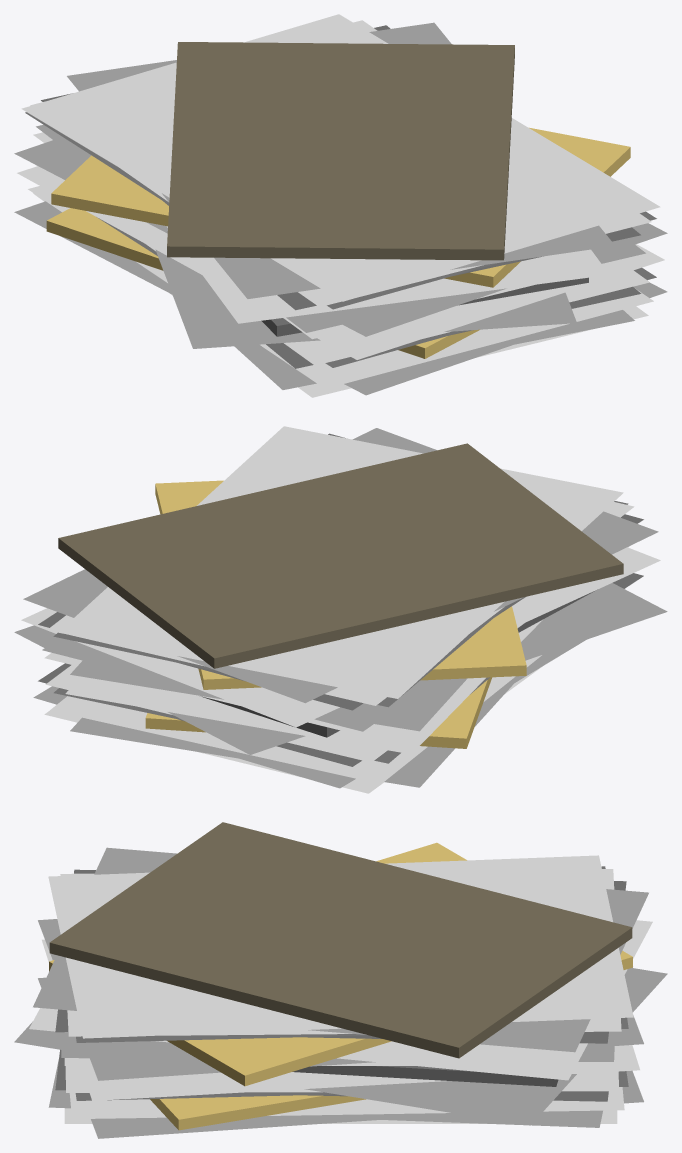
The model's file is Papers.fbx.
The picture shows the model from 3 angles, top to bottom: view 1: azimuth 30°, elevation 25°; view 2: azimuth 150°, elevation 25°; view 3: azimuth 270°, elevation 25°; orthographic projection. The views are drawn at different scales.
Visible parts, largest first — view 1: Papers; view 2: Papers; view 3: Papers.
Boxes of the visible parts, box(x1,y1,x2,y2) form: Papers: box(14, 14, 667, 397); Papers: box(14, 426, 667, 793); Papers: box(14, 822, 667, 1138).
Size of the model in its own units: 271 by 57.8 by 318.
